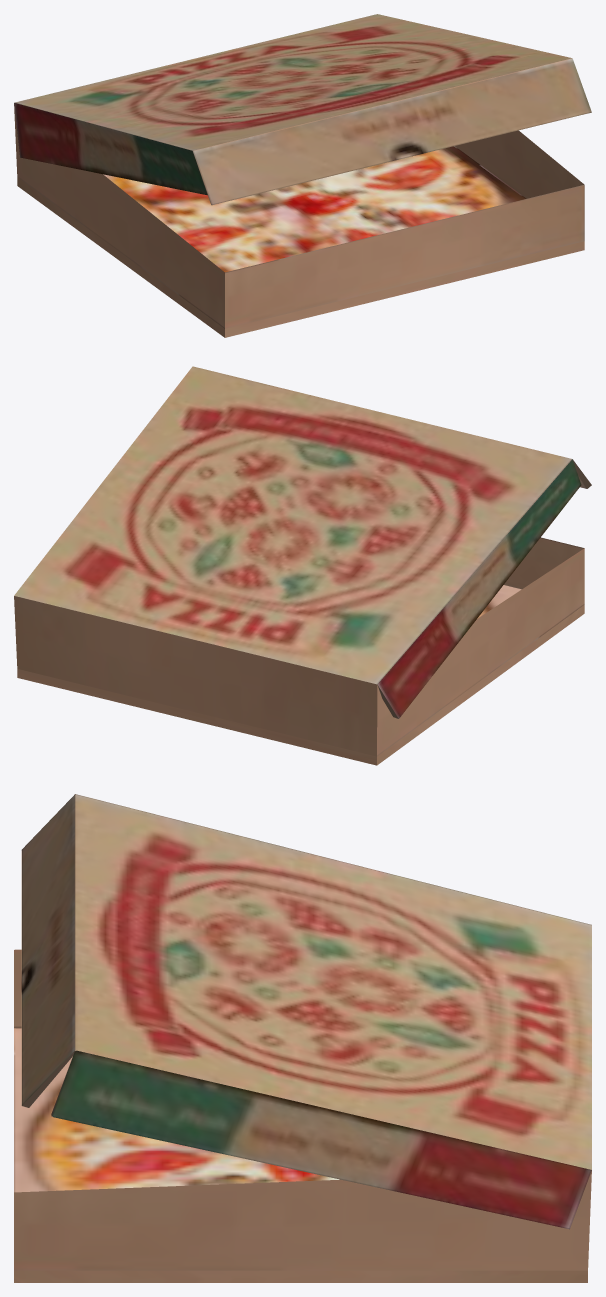
Rendered from Pizza.fbx.
3 renders of one model, top to bottom at view 1: azimuth 30°, elevation 25°; view 2: azimuth 150°, elevation 25°; view 3: azimuth 270°, elevation 25°, orthographic. The views are drawn at different scales.
Visible parts, largest first — view 1: PIZZACERRADA; view 2: PIZZACERRADA; view 3: PIZZACERRADA.
Boxes of the visible parts, x1,y1,x2,y2 form: PIZZACERRADA: [14, 14, 591, 337]; PIZZACERRADA: [14, 366, 591, 765]; PIZZACERRADA: [14, 794, 591, 1282].
Bounding box in the file's own units: 1.39 × 1.3 × 0.5928.
